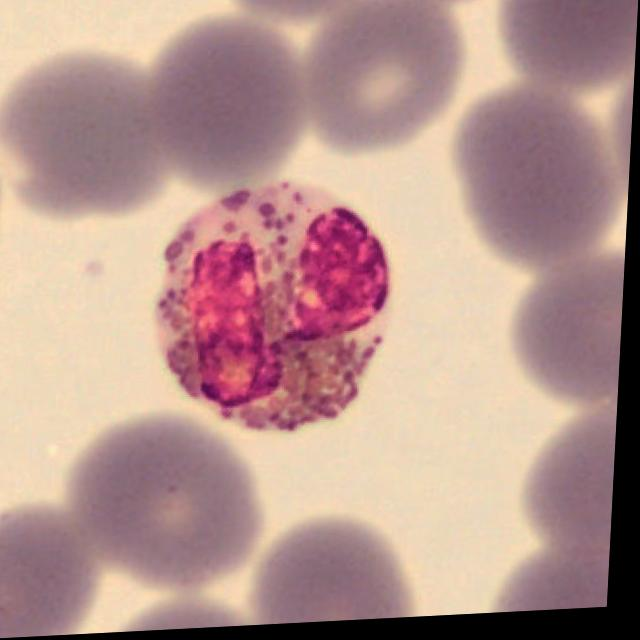Eosinofilo: (158, 184, 396, 437)
